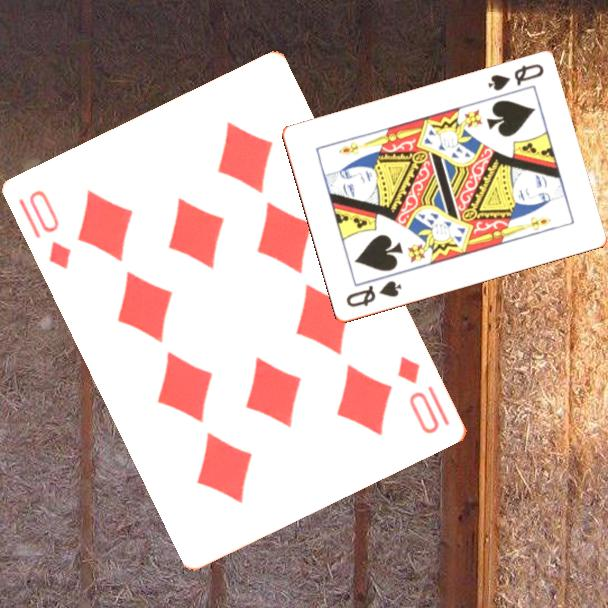d10: (15, 186, 75, 273), (394, 353, 443, 437)
s12: (484, 61, 547, 94), (342, 277, 404, 310)
